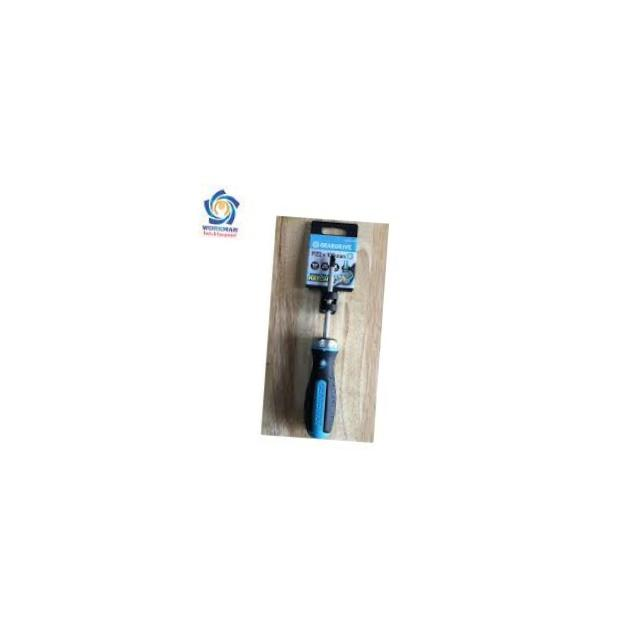screwdriver: (302, 251, 347, 440)
